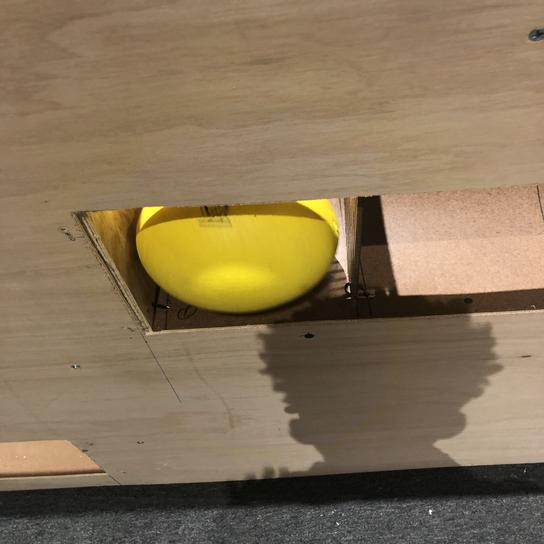ball: (134, 194, 343, 316)
